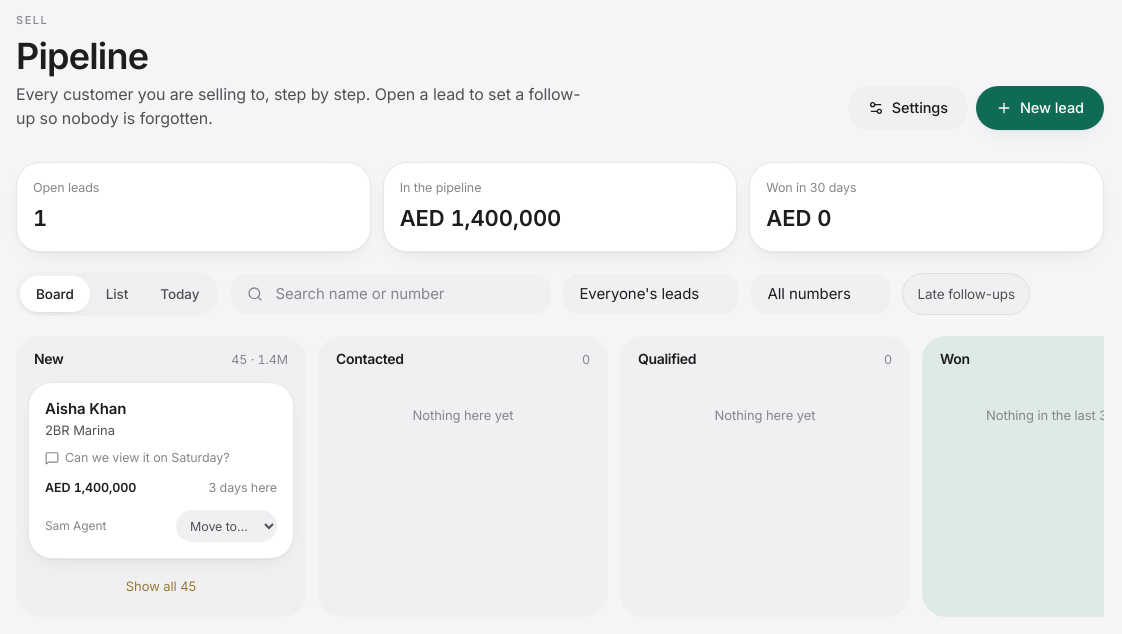
it: the board › offers 'show all' when a step has more leads than fit
The image size is (1122, 634).
Click the button "Show all 45" at coordinates (161, 587), box [28, 569, 294, 605]
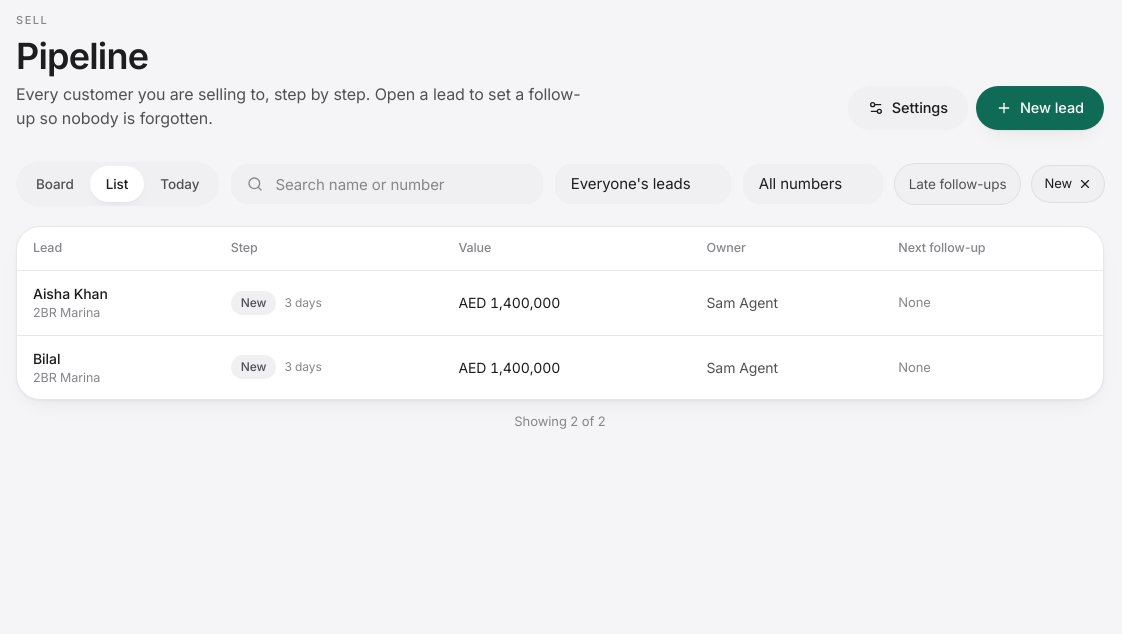
Expected: the icon named "Show every step" is shown, [1078, 177, 1092, 191]
